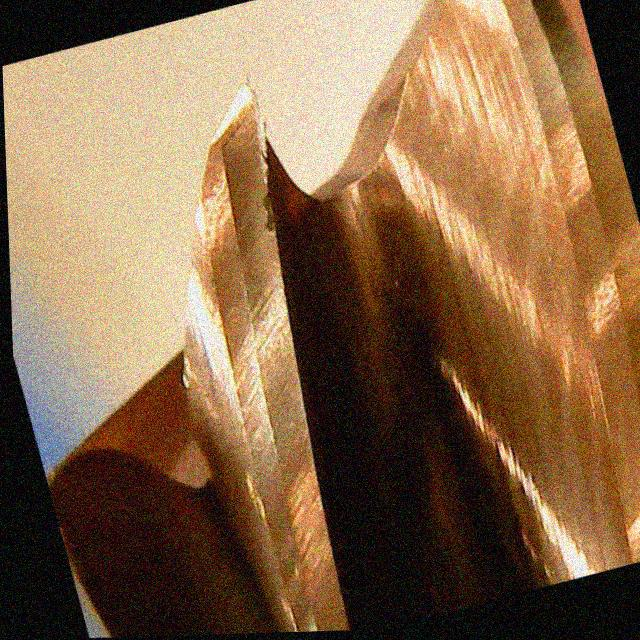Tool-wear-class-1: (116, 73, 358, 434)
